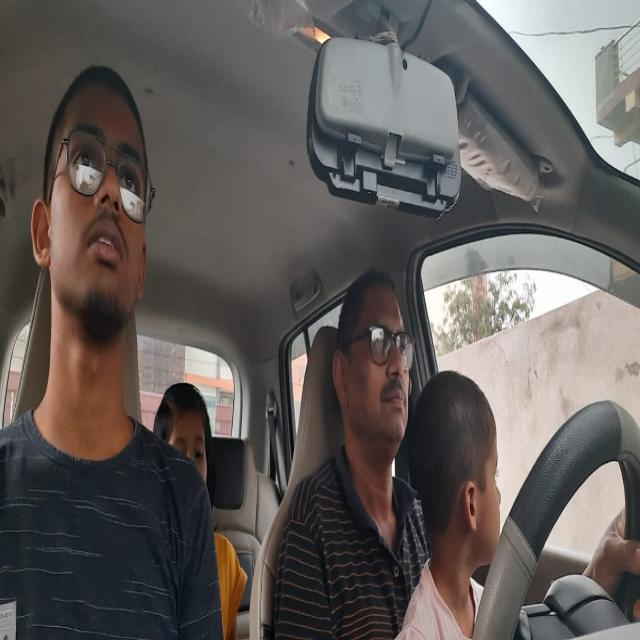child: (410, 368, 509, 570)
person: (29, 58, 153, 330), (328, 261, 412, 454), (154, 378, 212, 478)
